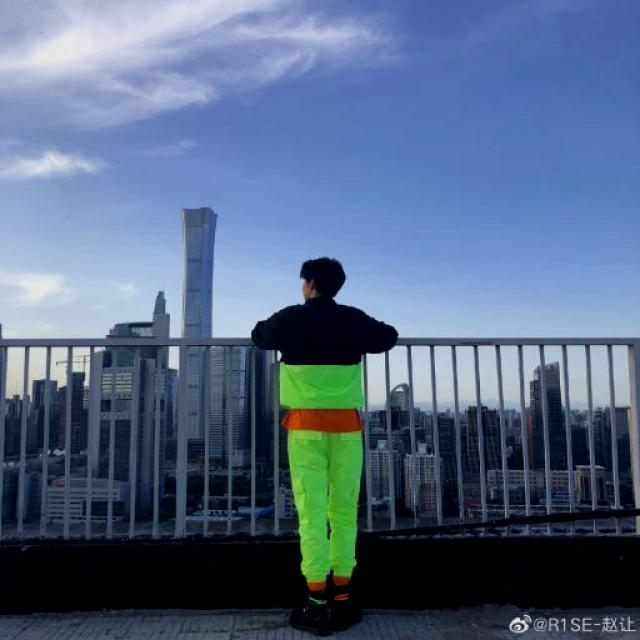head_nohelmet: (298, 252, 346, 290)
person: (249, 249, 395, 640)
shoes: (313, 587, 366, 635), (288, 594, 332, 638)
